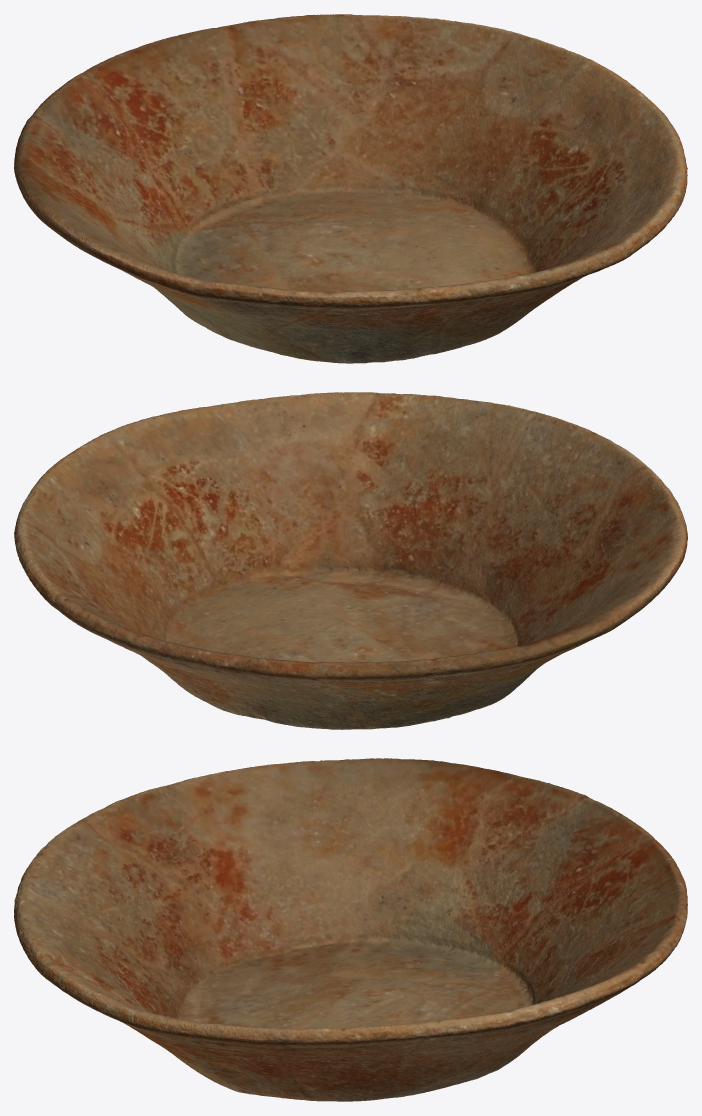
The picture shows the model from 3 angles, top to bottom: view 1: azimuth 30°, elevation 25°; view 2: azimuth 150°, elevation 25°; view 3: azimuth 270°, elevation 25°; orthographic projection.
Parts seen in each view (by area): view 1: Mesh_0.006; view 2: Mesh_0.006; view 3: Mesh_0.006.
Boxes of the visible parts, bbox=[...] form: Mesh_0.006: bbox=[14, 14, 687, 363]; Mesh_0.006: bbox=[14, 392, 687, 729]; Mesh_0.006: bbox=[14, 758, 687, 1101].
Bounding box in the file's own units: 1.19 × 0.2791 × 1.21.
Materials: 1 (1 with a texture image).
